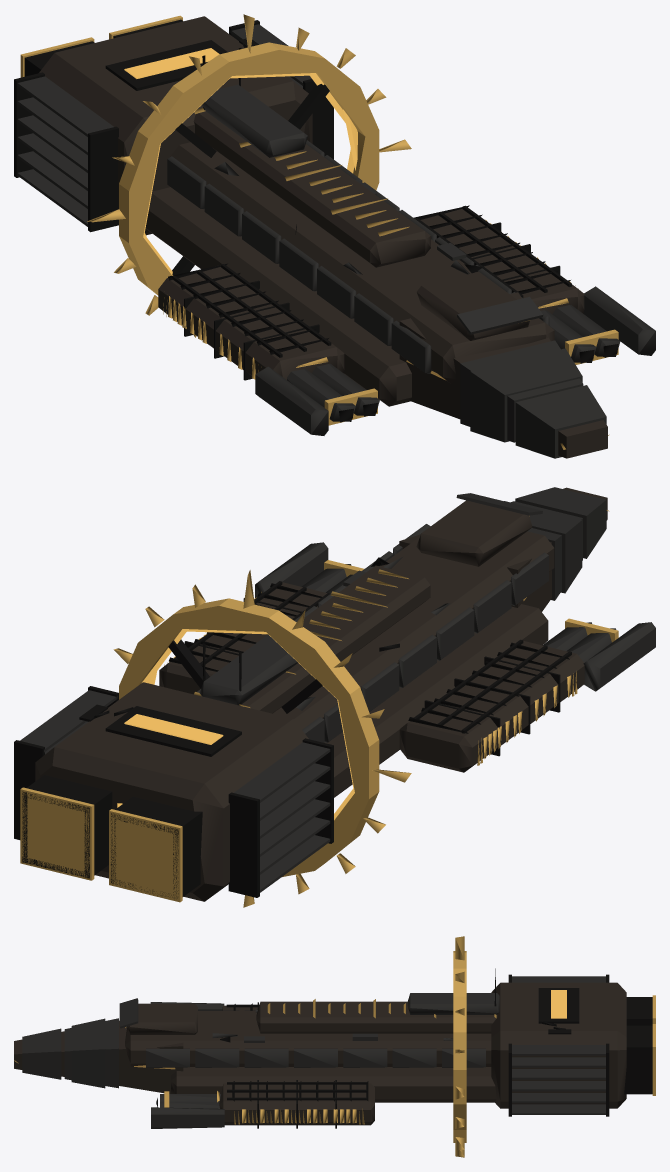
The model's file is goniec-wybudzeni-hawk-90-lod1.glb.
3 views of the same model, one above another, from view 1: azimuth 30°, elevation 25°; view 2: azimuth 150°, elevation 25°; view 3: azimuth 270°, elevation 25° (orthographic). The views are drawn at different scales.
Bounding box in the file's own units: 5.54 × 5.12 × 13.53.
